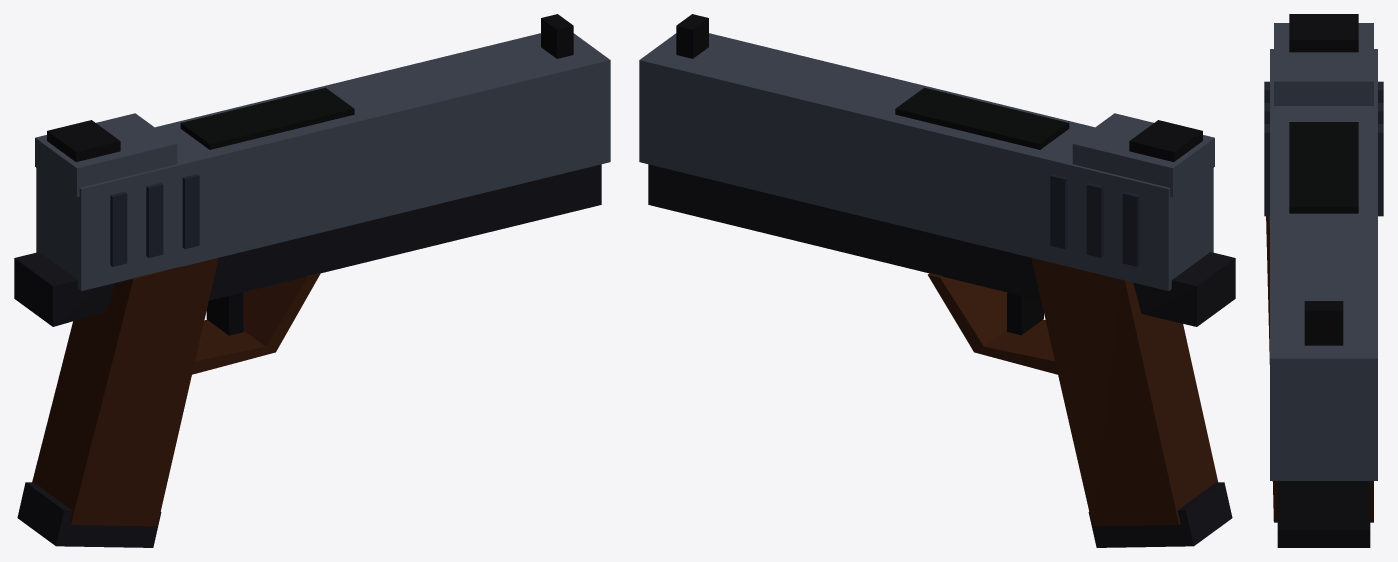
Rendered from SM_Pistol.fbx.
The picture shows the model from 3 angles, left to right: view 1: azimuth 30°, elevation 25°; view 2: azimuth 150°, elevation 25°; view 3: azimuth 270°, elevation 25°; orthographic projection. The views are drawn at different scales.
Visible parts, largest first — view 1: SM_Pistol; view 2: SM_Pistol; view 3: SM_Pistol.
Part boxes in pixels (<box>): SM_Pistol: <box>14,14,610,547</box>; SM_Pistol: <box>639,14,1235,547</box>; SM_Pistol: <box>1264,14,1383,547</box>.
Size of the model in its own units: 19.9 by 14.07 by 3.1.
